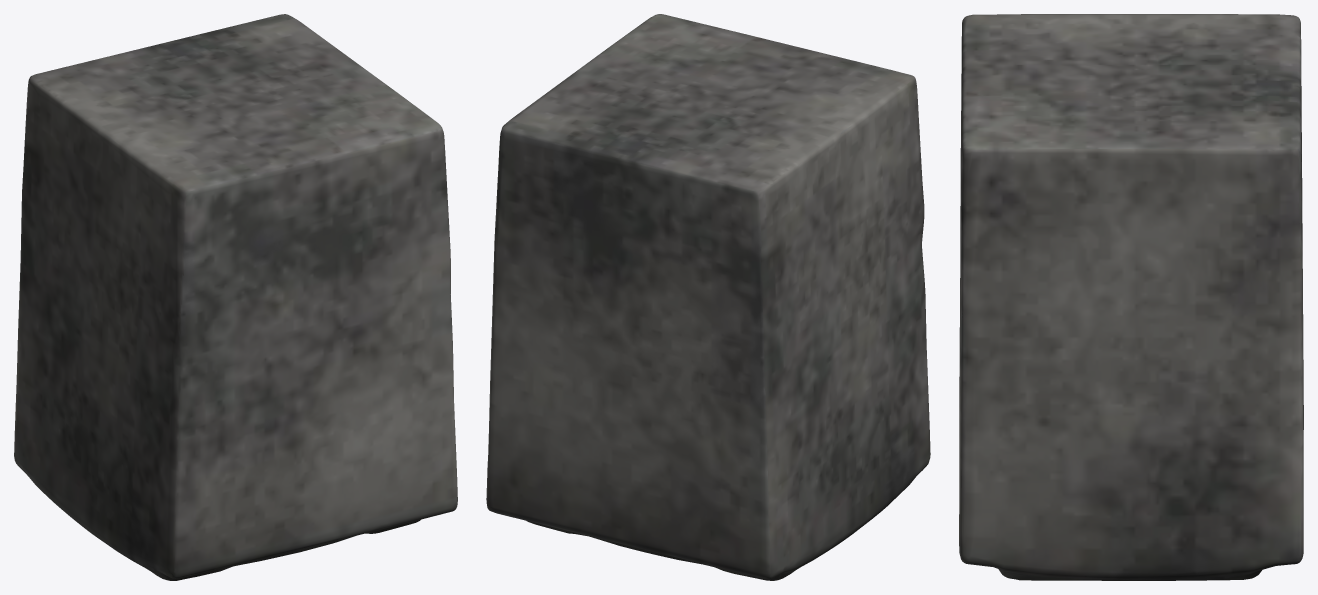
The model's file is ancient-granite-pedestal-v001.glb.
3 renders of one model, left to right at view 1: azimuth 30°, elevation 25°; view 2: azimuth 150°, elevation 25°; view 3: azimuth 270°, elevation 25°, orthographic. The views are drawn at different scales.
Visible parts, largest first — view 1: ancient-granite-pedestal; view 2: ancient-granite-pedestal; view 3: ancient-granite-pedestal.
Boxes of the visible parts, box(x1,y1,x2,y2) form: ancient-granite-pedestal: box(14, 14, 457, 580); ancient-granite-pedestal: box(486, 14, 930, 580); ancient-granite-pedestal: box(959, 14, 1303, 580).
Size of the model in its own units: 0.4803 by 0.6497 by 0.4663.
Materials: 1 (1 with a texture image).
